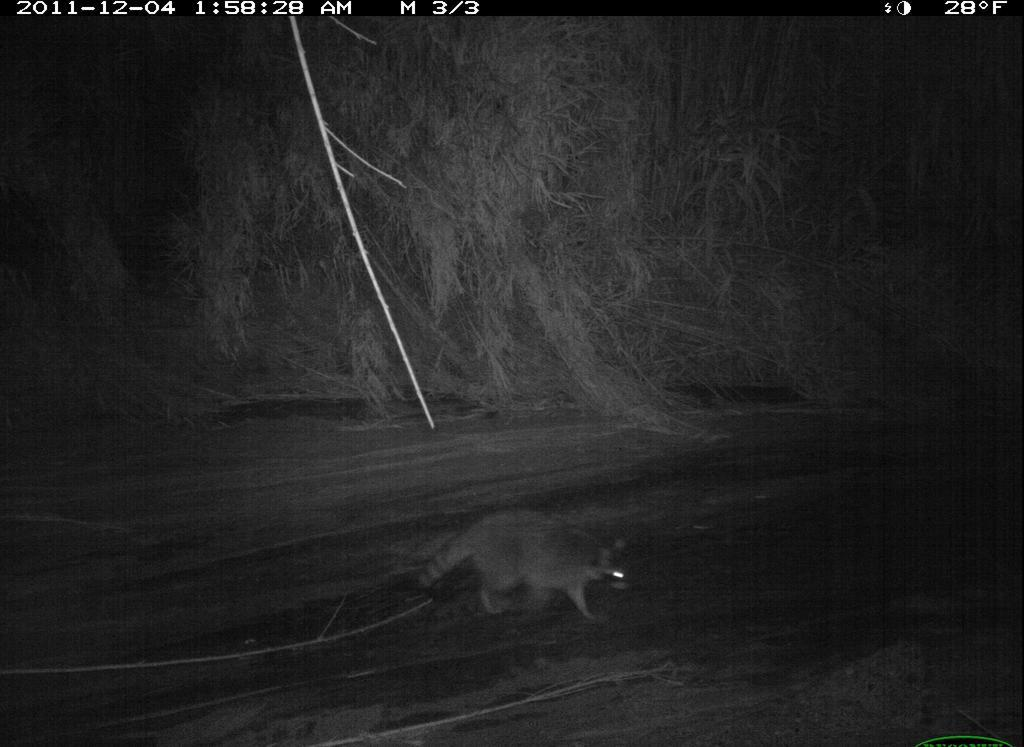raccoon: (409, 505, 639, 632)
